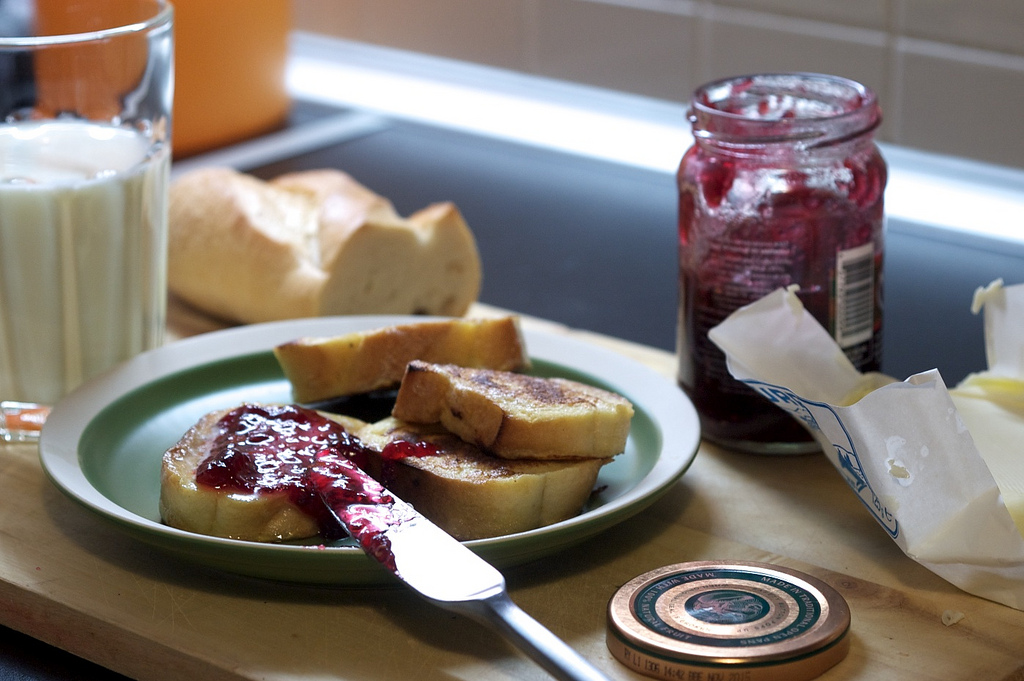slice of bread: (177, 168, 484, 332), (345, 411, 599, 526), (412, 359, 644, 465), (191, 412, 331, 531), (278, 336, 551, 389)
